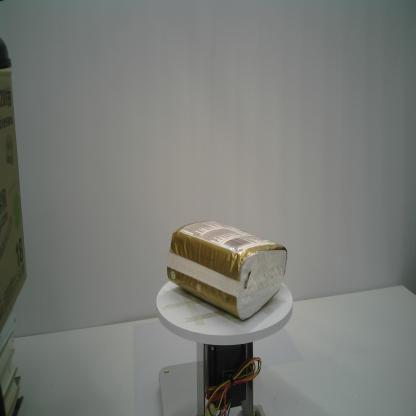Tissue: (167, 220, 287, 321)
